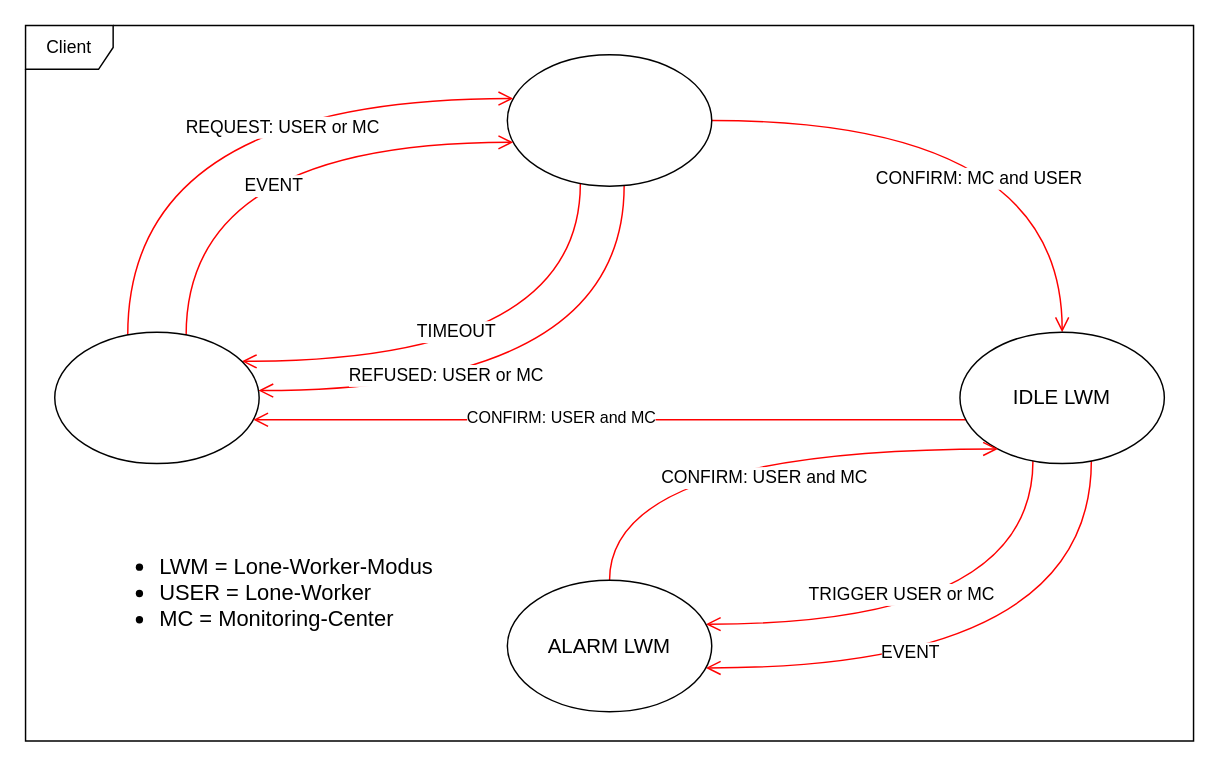
The diagram is 1219 pixels wide and 767 high, and some of its shapes have lost their labels. Here are the shapes that lost their labels. From the top down, the centre of each, then its label:
At point 609,119: "REQUEST LWM".
At point 156,397: "OFF LWM".
